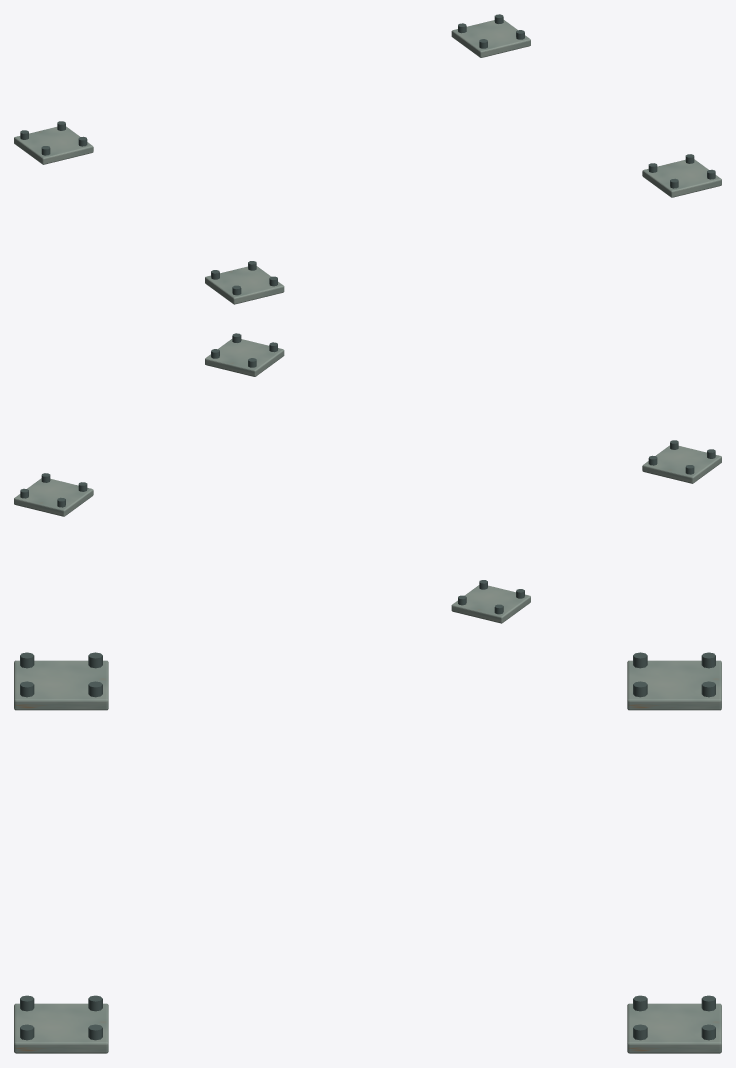
File: Base_Plates.glb
3 views of the same model, one above another, from view 1: azimuth 30°, elevation 25°; view 2: azimuth 150°, elevation 25°; view 3: azimuth 270°, elevation 25° (orthographic). The views are drawn at different scales.
Parts seen in each view (by area): view 1: Base_Plates; view 2: Base_Plates; view 3: Base_Plates.
Part boxes in pixels (x1,y1,x2,y2): Base_Plates: [14, 14, 721, 304]; Base_Plates: [14, 333, 721, 623]; Base_Plates: [14, 652, 721, 1053].
Size of the model in its own units: 10.05 by 0.26 by 7.85.
2 materials, 1 textured.
